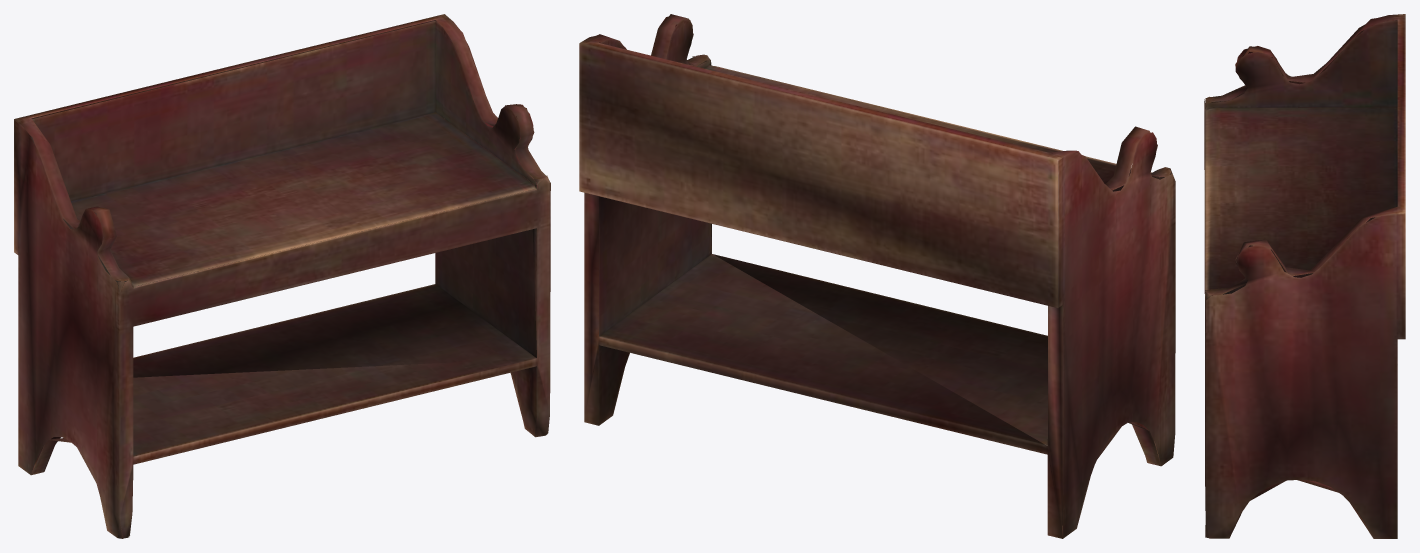
File: bench-medium.glb
3 renders of one model, left to right at view 1: azimuth 30°, elevation 25°; view 2: azimuth 150°, elevation 25°; view 3: azimuth 270°, elevation 25°, orthographic. The views are drawn at different scales.
Visible parts, largest first — view 1: painted_wooden_bench baked; view 2: painted_wooden_bench baked; view 3: painted_wooden_bench baked.
Part boxes in pixels (bbox=[...]): painted_wooden_bench baked: bbox=[14, 14, 550, 538]; painted_wooden_bench baked: bbox=[579, 14, 1175, 538]; painted_wooden_bench baked: bbox=[1204, 14, 1405, 538].
Size of the model in its own units: 1.16 by 0.8893 by 0.4964.
1 material, 1 textured.
